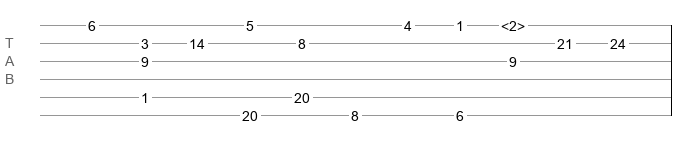1: (141, 90, 149, 100), (456, 18, 464, 28)
14: (189, 36, 205, 46)
20: (242, 108, 258, 118), (294, 90, 310, 100)
21: (557, 36, 573, 46)
24: (610, 36, 626, 46)
3: (141, 36, 149, 46)
4: (404, 18, 412, 28)
5: (246, 18, 254, 28)
6: (88, 18, 96, 28), (456, 108, 464, 118)
8: (298, 36, 306, 46), (351, 108, 359, 118)
9: (141, 54, 149, 64), (509, 54, 517, 64)
harmonic: (501, 18, 525, 28)
